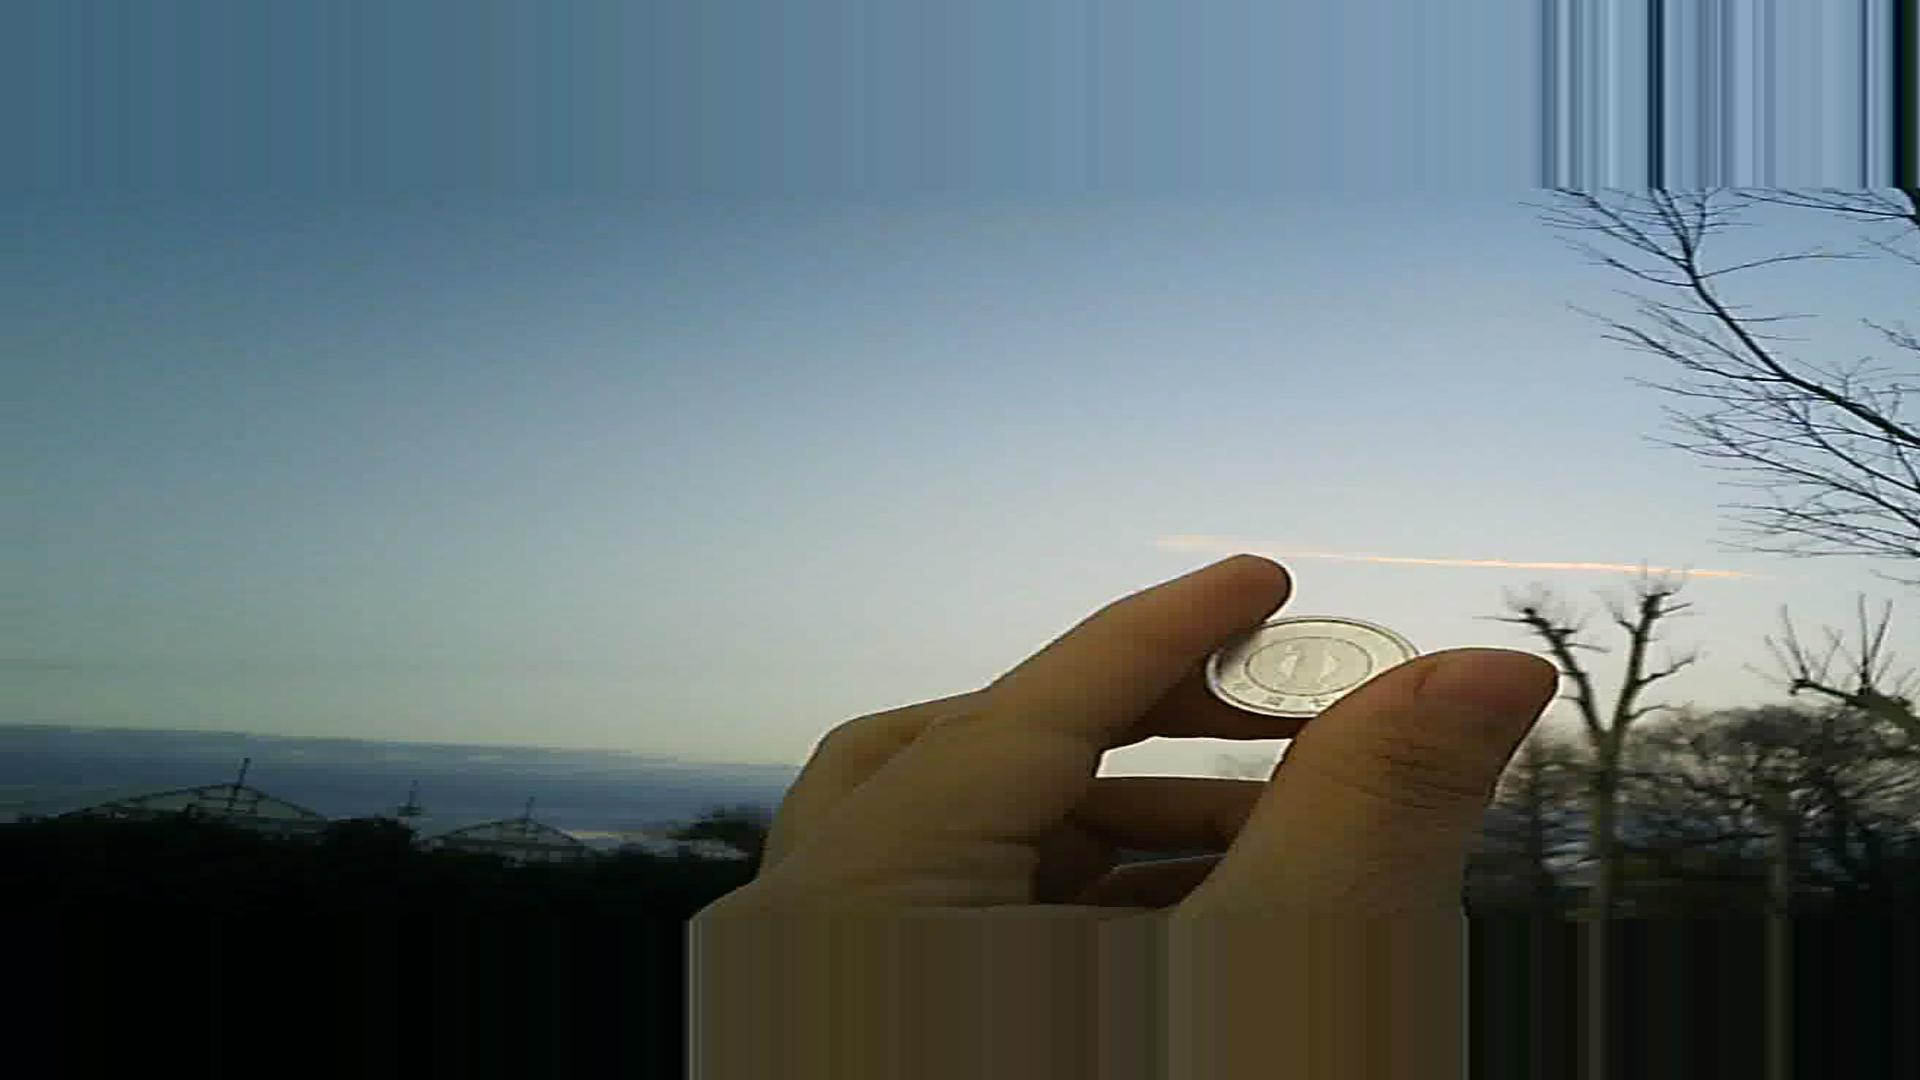1 Yen: (1203, 603, 1420, 733)
